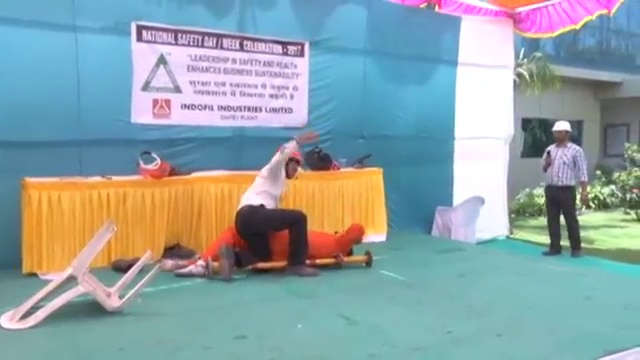helmet: (276, 142, 303, 162), (551, 119, 572, 134)
helmet_on: (275, 143, 303, 181), (551, 118, 572, 145)
person: (216, 140, 321, 285), (158, 221, 365, 280), (542, 117, 590, 260)
